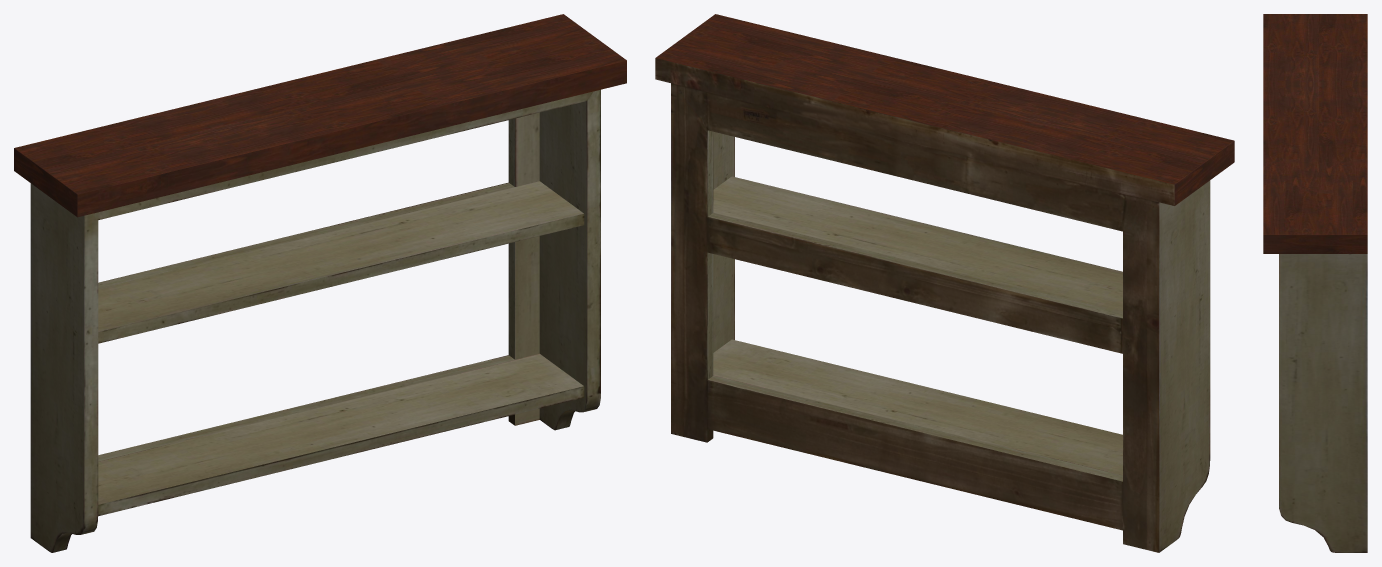
Rendered from example161.glb.
3 views of the same model, side by side, from view 1: azimuth 30°, elevation 25°; view 2: azimuth 150°, elevation 25°; view 3: azimuth 270°, elevation 25° (orthographic). The views are drawn at different scales.
Parts seen in each view (by area): view 1: Buffer Layer; view 2: Buffer Layer; view 3: Buffer Layer.
Boxes of the visible parts, x1=… form: Buffer Layer: x1=14, y1=14, x2=626, y2=552; Buffer Layer: x1=655, y1=14, x2=1234, y2=552; Buffer Layer: x1=1263, y1=14, x2=1367, y2=552.
Size of the model in its own units: 1 by 0.685 by 0.2.
Materials: 1 (1 with a texture image).
